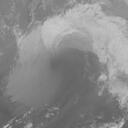cyclone: (29, 28, 89, 83)
